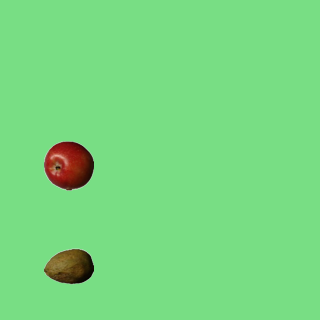Apple Braeburn: (43, 140, 93, 190)
Papaya: (43, 241, 93, 291)
